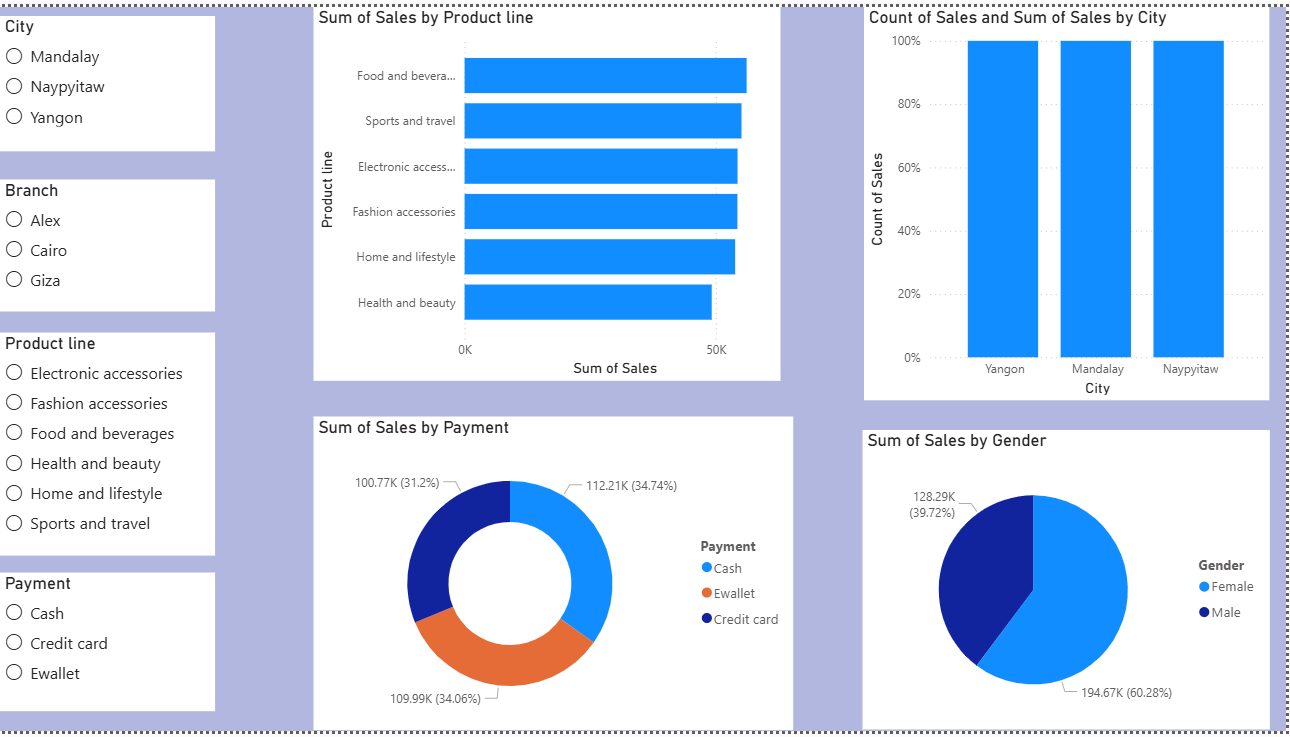

Layout of this report page (visuals, bound fields, positions):
{"tool":"powerbi","page":{"name":"Page 2","canvas":[1280,720],"ordinal":1},"visuals":[{"type":"clusteredBarChart","fields":{"Category":["analysis.Product line"],"Y":["Sum(analysis.Sales)"]},"box":[312.3,0,464.9,371.9],"z":0},{"type":"hundredPercentStackedColumnChart","fields":{"Category":["analysis.City"],"Y":["CountNonNull(analysis.Sales)"]},"box":[859.6,0,403.5,391.2],"z":1},{"type":"pieChart","fields":{"Category":["analysis.Gender"],"Y":["Sum(analysis.Sales)"]},"box":[857.9,421.1,405.3,298.2],"z":3},{"type":"donutChart","fields":{"Category":["analysis.Payment"],"Y":["Sum(analysis.Sales)"]},"box":[312.3,407,477.2,312.3],"z":4},{"type":"listSlicer","fields":{"Values":["analysis.City"]},"box":[0,9.2,213.8,134.6],"z":5},{"type":"listSlicer","fields":{"Values":["analysis.Branch"]},"box":[0,172.3,213.8,131.5],"z":6},{"type":"listSlicer","fields":{"Values":["analysis.Product line"]},"box":[0,323.8,213.8,222.3],"z":7},{"type":"listSlicer","fields":{"Values":["analysis.Payment"]},"box":[0,563.1,213.8,137.7],"z":8}]}

Visuals, with their boxes in screenshot pixels (x1, y1, x2, y2), scaled from the page's 1280x720 canvas onto the 1290x737 screenshot:
clusteredBarChart - analysis.Product line x Sum(analysis.Sales): box(315, 0, 783, 381)
hundredPercentStackedColumnChart - analysis.City x CountNonNull(analysis.Sales): box(866, 0, 1273, 400)
pieChart - analysis.Gender x Sum(analysis.Sales): box(865, 431, 1273, 736)
donutChart - analysis.Payment x Sum(analysis.Sales): box(315, 417, 796, 736)
listSlicer - analysis.City: box(0, 9, 215, 147)
listSlicer - analysis.Branch: box(0, 176, 215, 311)
listSlicer - analysis.Product line: box(0, 331, 215, 559)
listSlicer - analysis.Payment: box(0, 576, 215, 717)
